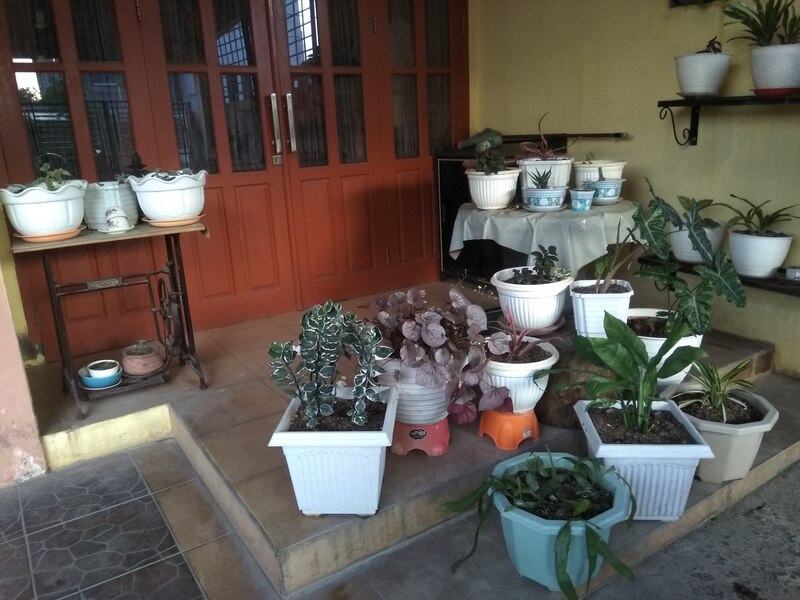pot: (484, 447, 633, 598), (571, 395, 715, 531), (267, 379, 400, 523), (489, 262, 574, 330), (126, 165, 220, 224), (465, 164, 525, 212)
